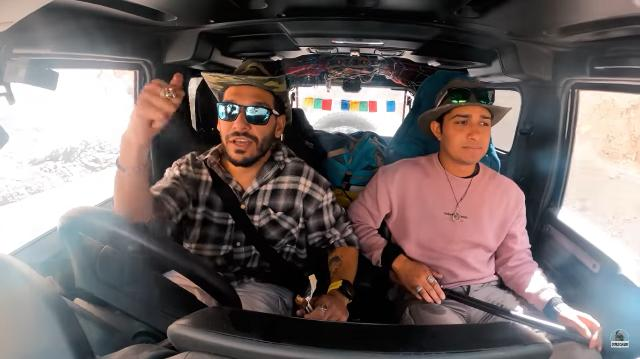no seatbelt: (372, 161, 532, 317)
seatbelt: (203, 158, 315, 298)
